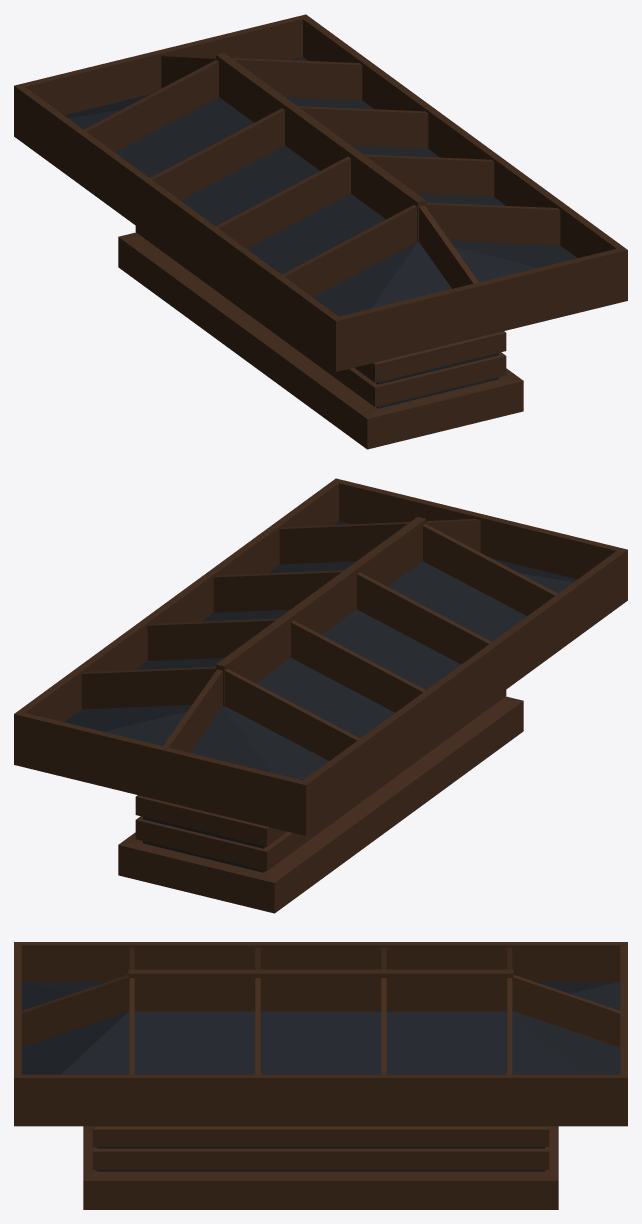
The model's file is ProductStand02.fbx.
3 views of the same model, one above another, from view 1: azimuth 30°, elevation 25°; view 2: azimuth 150°, elevation 25°; view 3: azimuth 270°, elevation 25° (orthographic). The views are drawn at different scales.
Visible parts, largest first — view 1: ProductStand02; view 2: ProductStand02; view 3: ProductStand02.
Boxes of the visible parts, <box> form: ProductStand02: <box>14,14,627,449</box>; ProductStand02: <box>14,478,627,913</box>; ProductStand02: <box>14,942,627,1209</box>.
Bounding box in the file's own units: 199 × 138 × 380.
